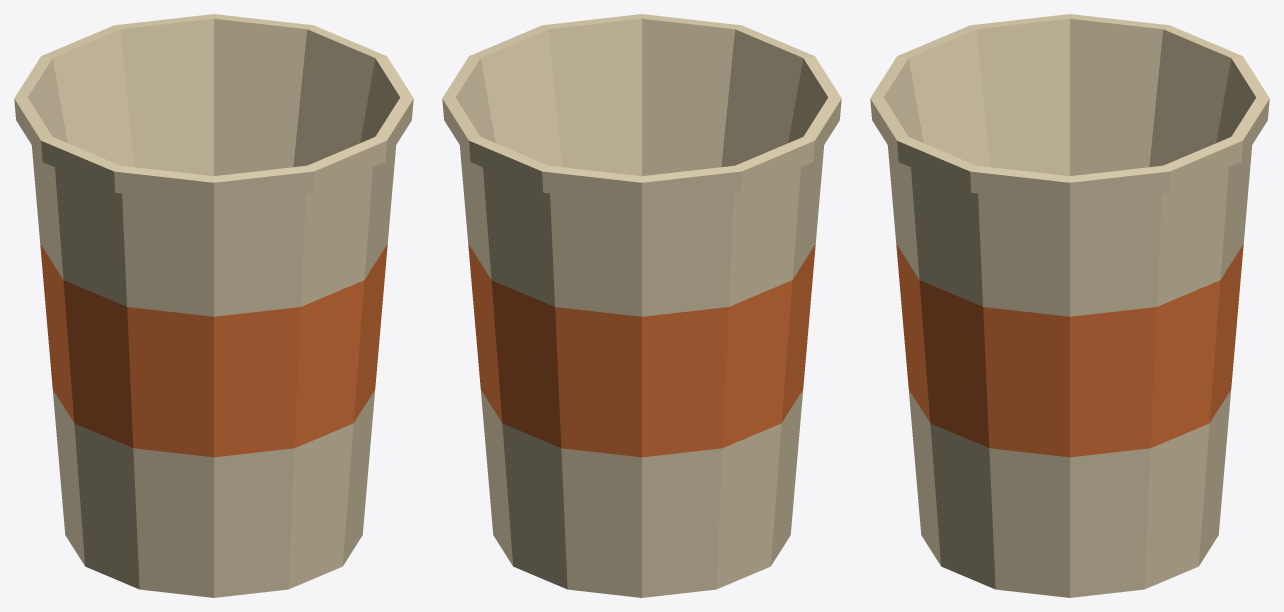
The model's file is Empty cup.fbx.
The picture shows the model from 3 angles, left to right: view 1: azimuth 30°, elevation 25°; view 2: azimuth 150°, elevation 25°; view 3: azimuth 270°, elevation 25°; orthographic projection.
Visible parts, largest first — view 1: Cup; view 2: Cup; view 3: Cup.
Boxes of the visible parts, <box> form: Cup: <box>14,14,413,597</box>; Cup: <box>442,14,841,597</box>; Cup: <box>870,14,1269,597</box>.
Bounding box in the file's own units: 7.51 × 9.07 × 7.51.
